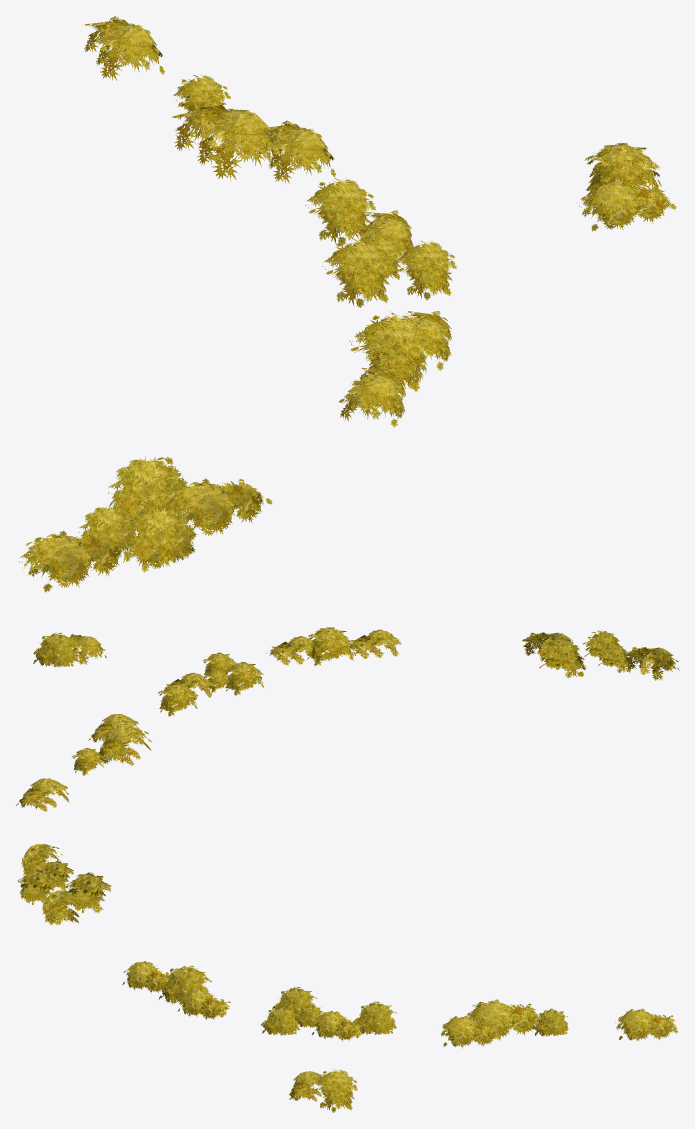
File: guanmu01.fbx
The picture shows the model from 3 angles, top to bottom: view 1: azimuth 30°, elevation 25°; view 2: azimuth 150°, elevation 25°; view 3: azimuth 270°, elevation 25°; orthographic projection. The views are drawn at different scales.
Parts seen in each view (by area): view 1: guanmu01; view 2: guanmu01; view 3: guanmu01.
Part boxes in pixels (x1,y1,x2,y2): guanmu01: (19,16,676,592); guanmu01: (16,627,679,811); guanmu01: (17,843,677,1112).
Size of the model in its own units: 3642 by 274 by 3988.
Materials: 1 (1 with a texture image).
